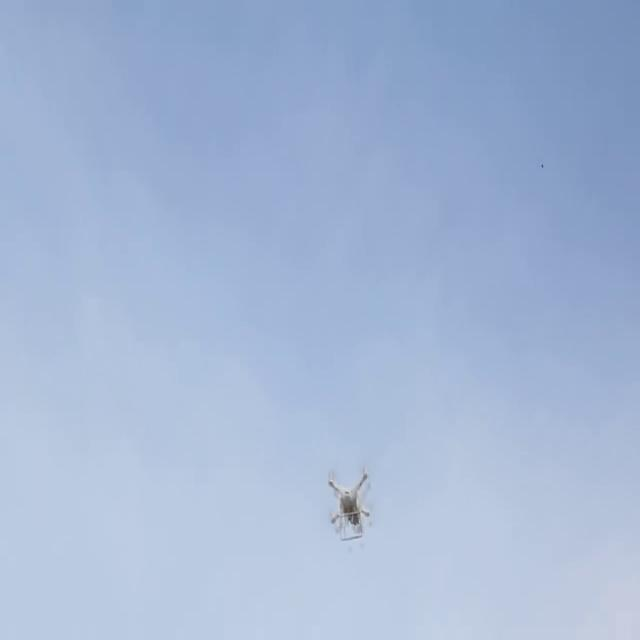drone: (322, 459, 378, 538)
